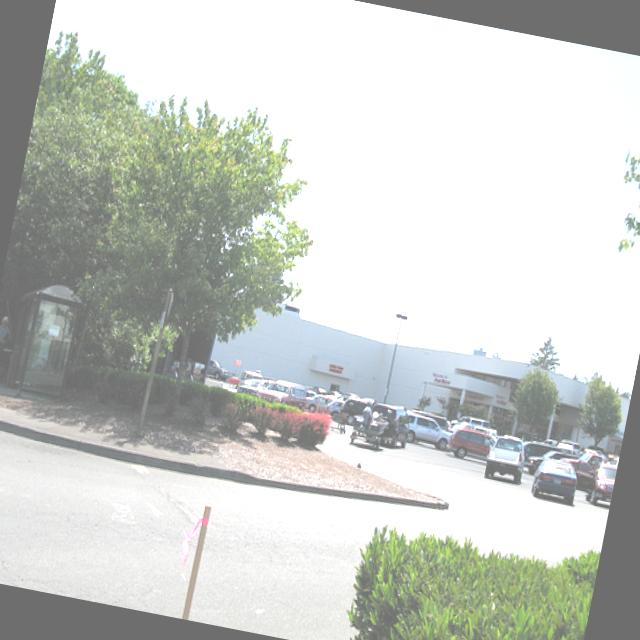Vehicle: (364, 401, 414, 452), (530, 456, 580, 506), (483, 433, 531, 485), (400, 412, 454, 452), (523, 447, 579, 483), (446, 426, 496, 465), (554, 456, 600, 496), (255, 376, 309, 410), (584, 459, 618, 506), (338, 396, 374, 428), (304, 392, 337, 416)
